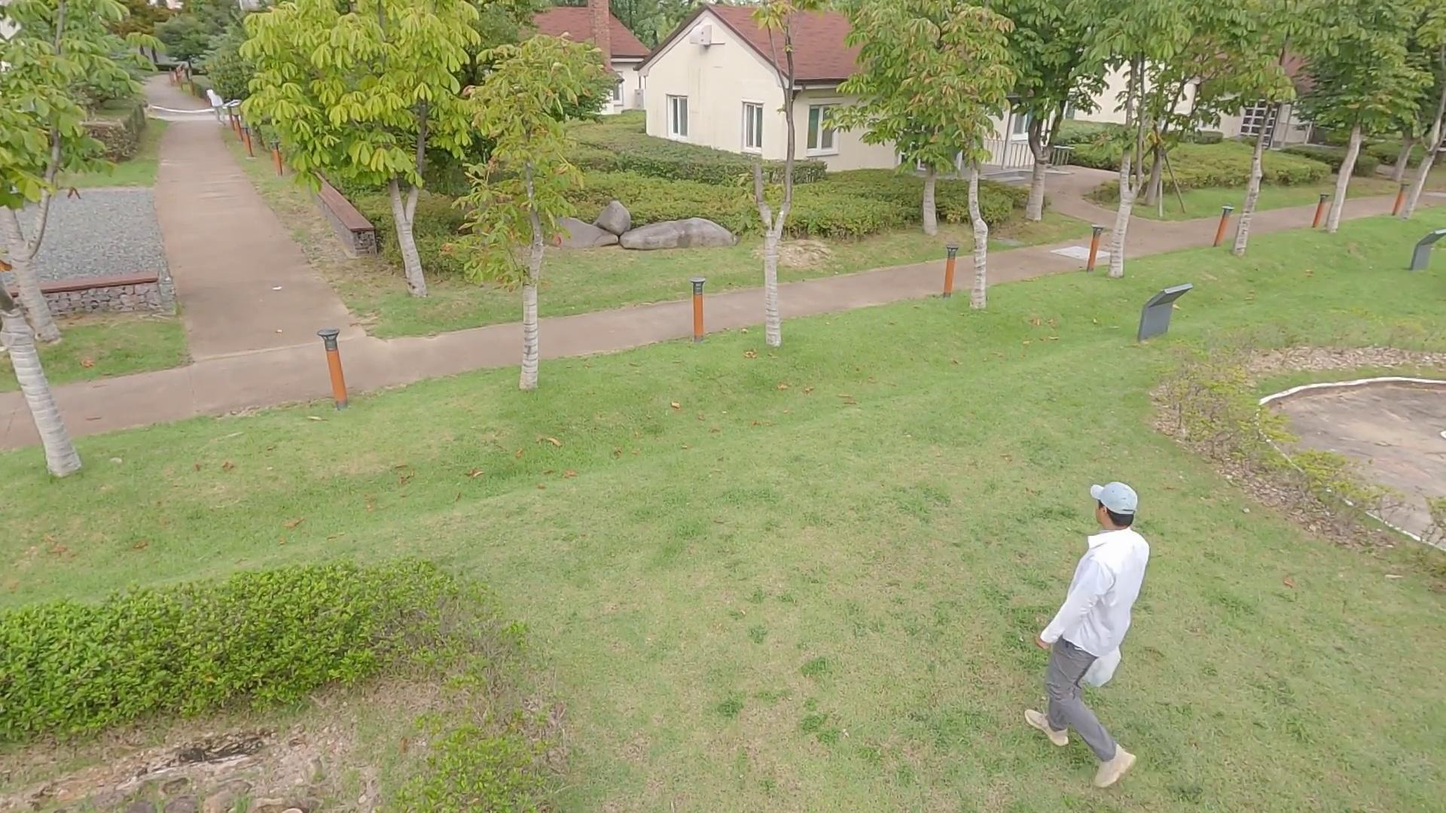person: (1028, 472, 1146, 790)
trash: (1077, 640, 1125, 688)
